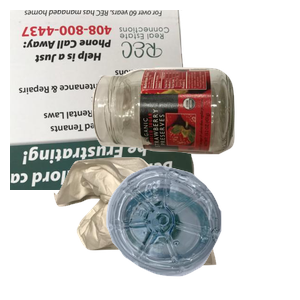glass: (89, 65, 300, 212)
paper: (10, 10, 201, 190)
plastic: (104, 163, 300, 300)
trash: (51, 155, 261, 300)
